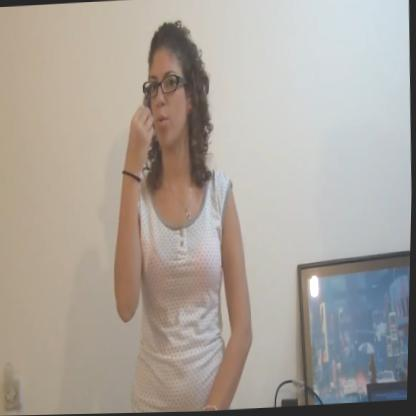Food: (108, 13, 260, 414)
